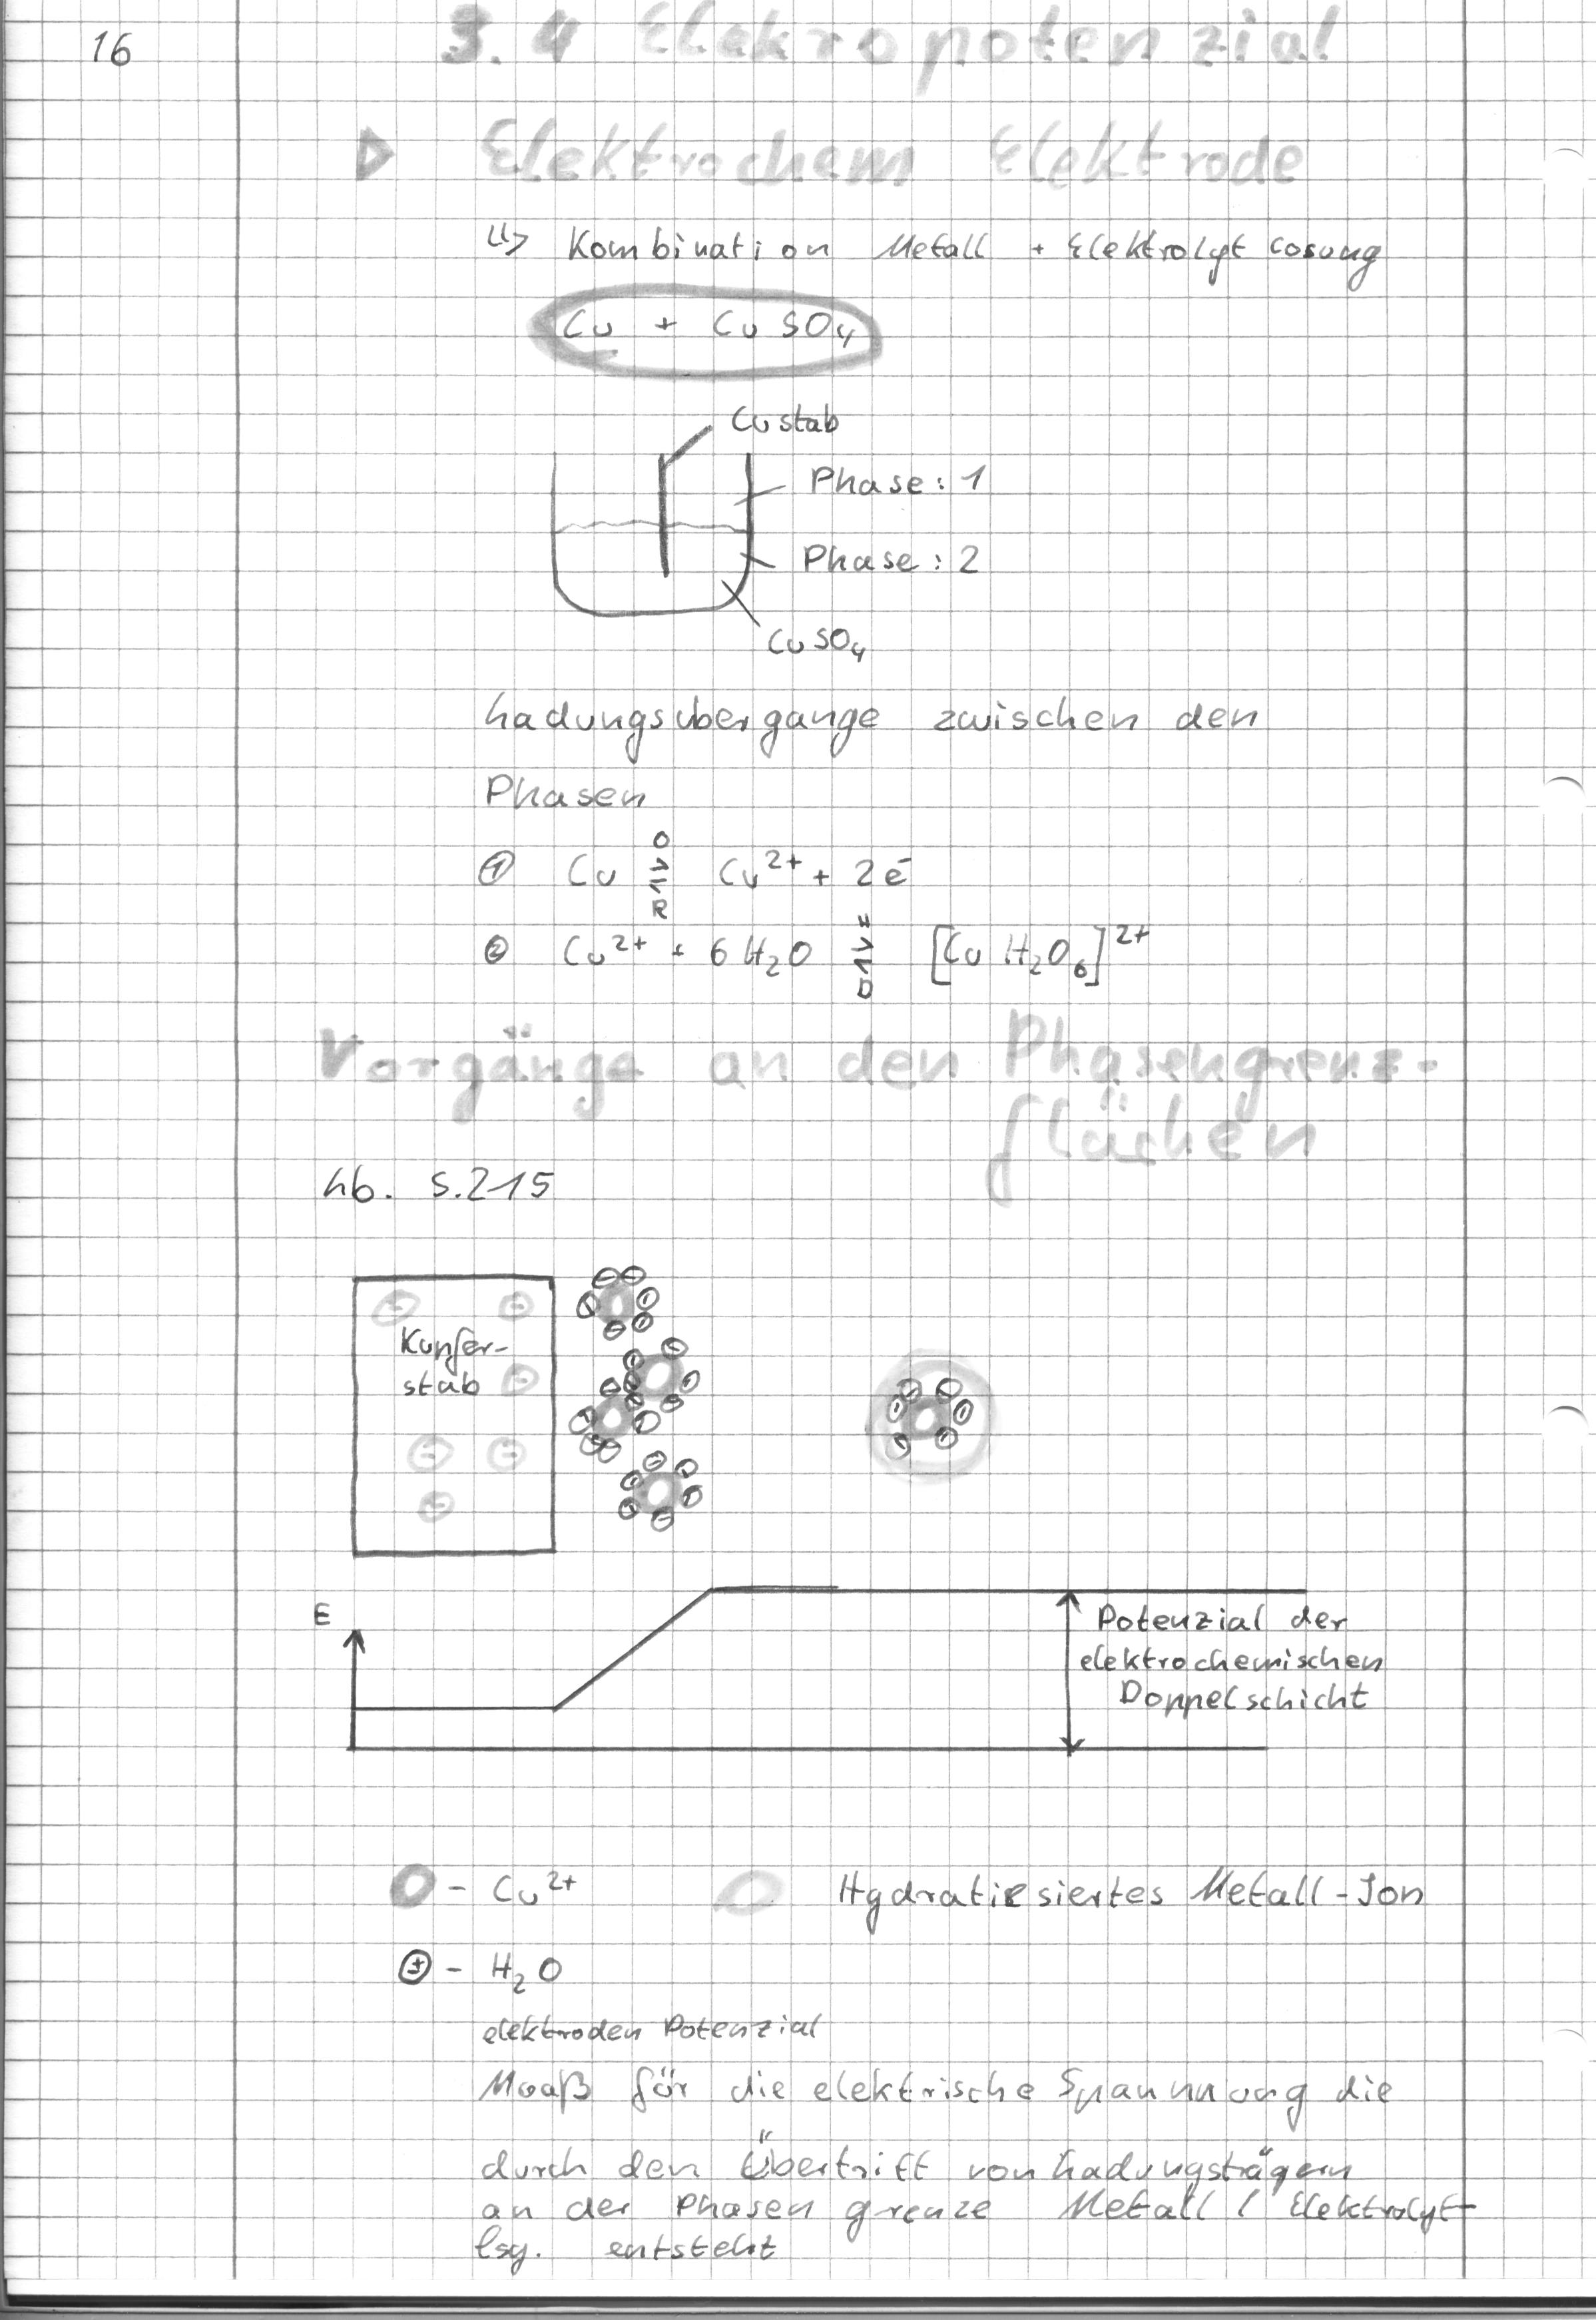word: (457, 2126, 1492, 2283), (473, 815, 1161, 1004), (474, 2010, 1415, 2139), (473, 677, 1272, 818), (476, 204, 1400, 300), (730, 394, 1015, 671), (832, 1847, 1430, 1953), (1079, 1583, 1391, 1733), (366, 1847, 579, 2004), (537, 281, 883, 365), (315, 1151, 579, 1216), (393, 1317, 517, 1411)
